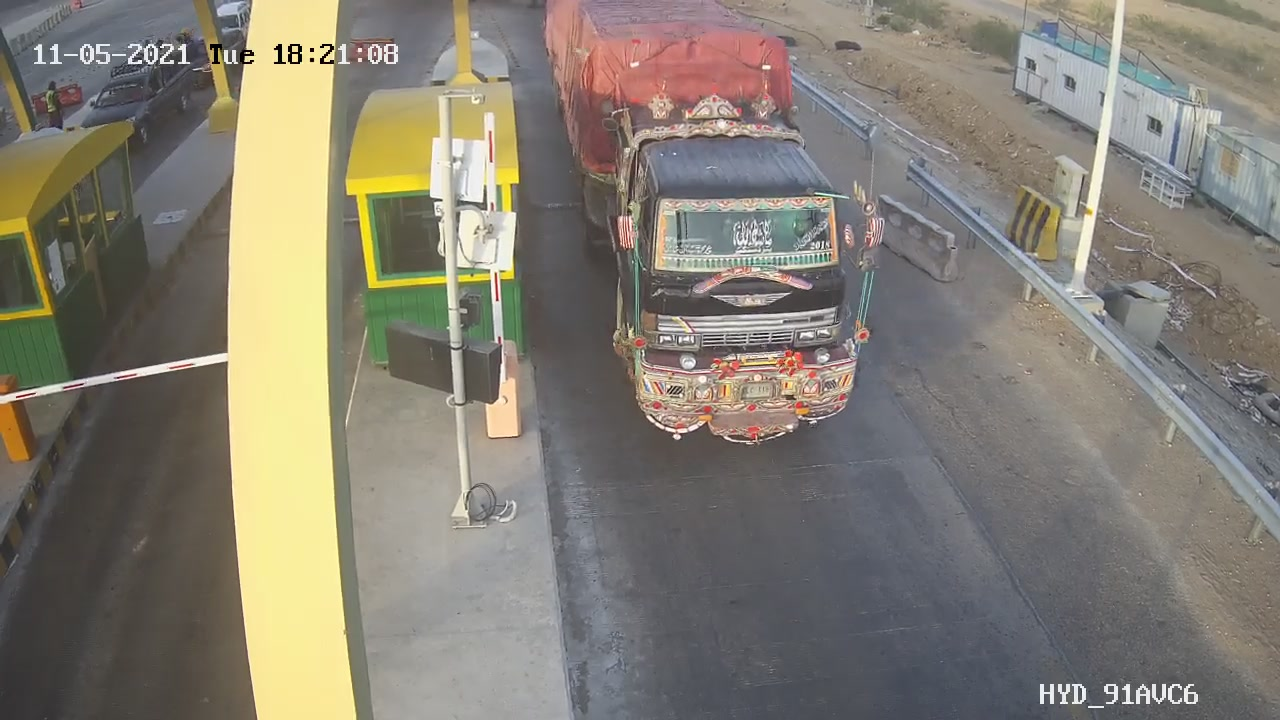F6: (542, 1, 892, 450)
